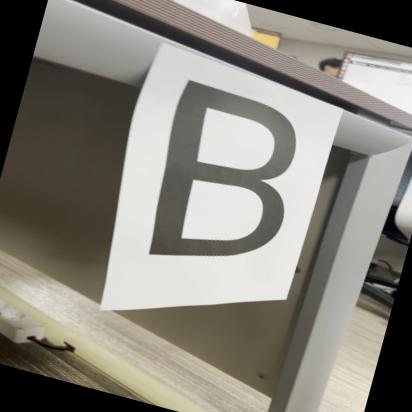seat: (104, 52, 330, 312)
